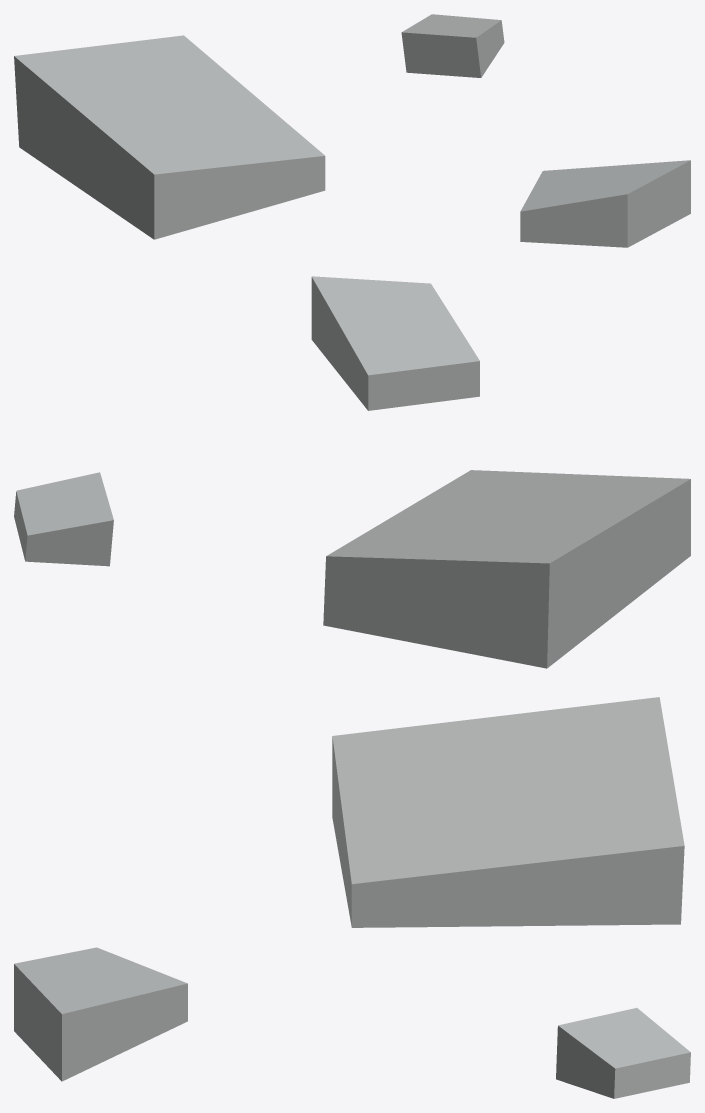
File: Rock_Blocks_s_04.fbx
The picture shows the model from 3 angles, top to bottom: view 1: azimuth 30°, elevation 25°; view 2: azimuth 150°, elevation 25°; view 3: azimuth 270°, elevation 25°; orthographic projection. The views are drawn at different scales.
Visible parts, largest first — view 1: Rock_Blocks_s_04; view 2: Rock_Blocks_s_04; view 3: Rock_Blocks_s_04.
Boxes of the visible parts, x1,y1,x2,y2 form: Rock_Blocks_s_04: (14, 14, 690, 247); Rock_Blocks_s_04: (14, 276, 690, 668); Rock_Blocks_s_04: (14, 697, 690, 1098).
Size of the model in its own units: 37.21 by 7.75 by 36.69.
